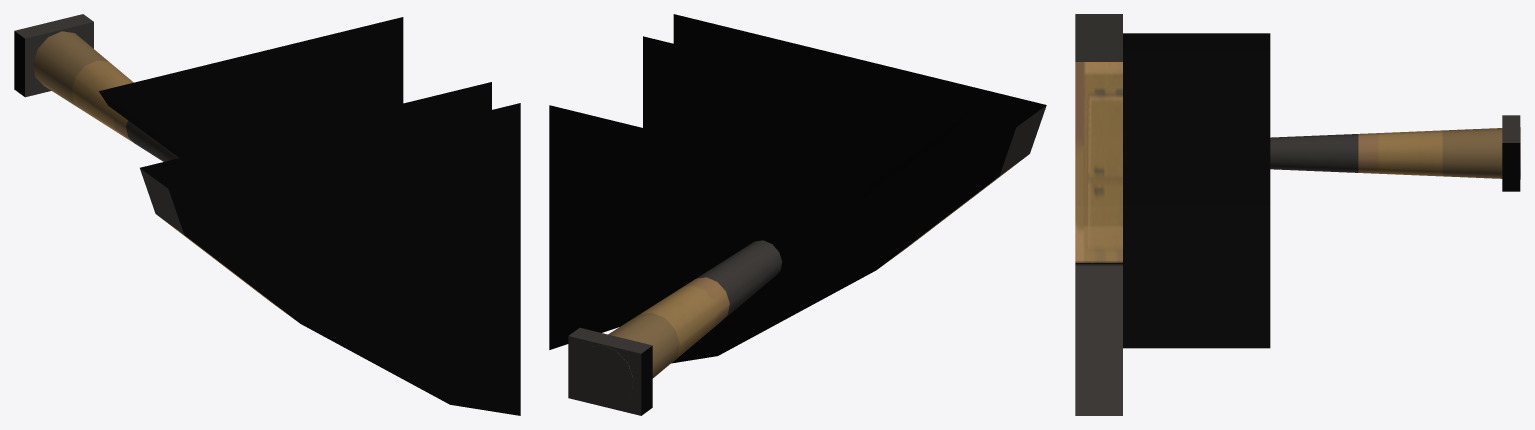
The model's file is section-11.obj.
3 views of the same model, side by side, from view 1: azimuth 30°, elevation 25°; view 2: azimuth 150°, elevation 25°; view 3: azimuth 270°, elevation 25° (orthographic). The views are drawn at different scales.
Size of the model in its own units: 0.8483 by 0.7204 by 1.12.
